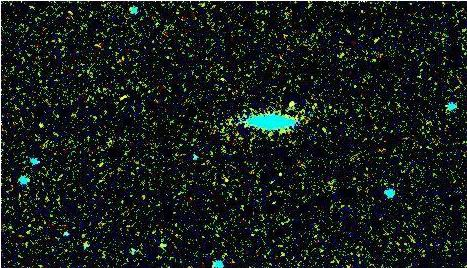star: (274, 84, 304, 114)
